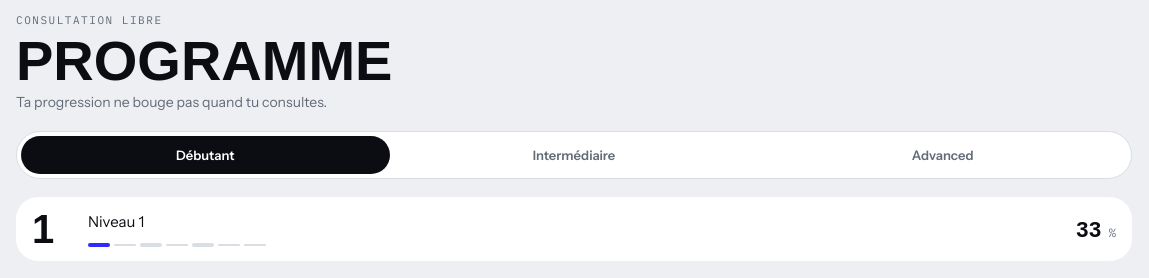
Test: ProgrammeScreen › switching the parcours tab shows that parcours' rows
Click the button "Advanced": (943, 155) [758,136,1127,174]
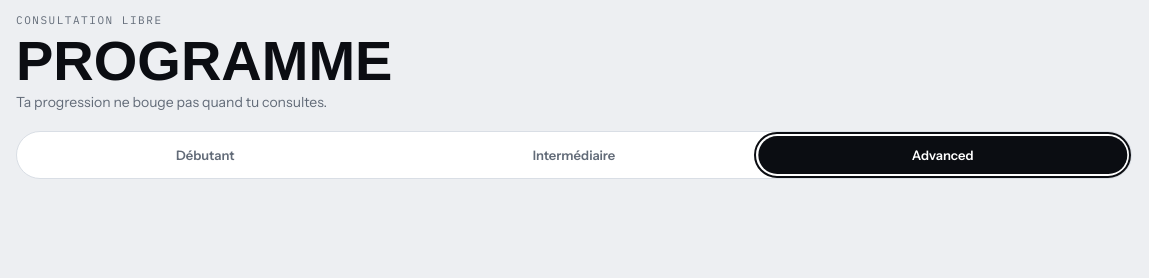
Check: the button "Niveau 1" is gone
